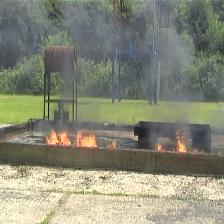fire: (46, 129, 72, 145), (75, 131, 98, 146), (174, 133, 186, 152)
